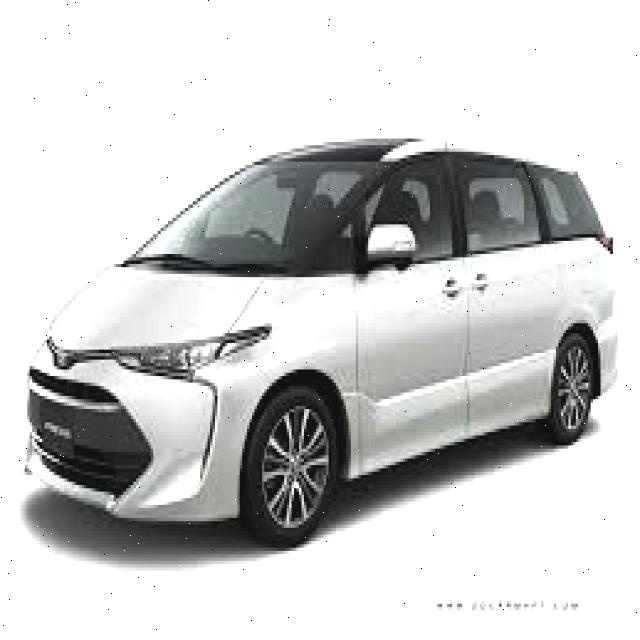Van: (12, 135, 616, 551)
